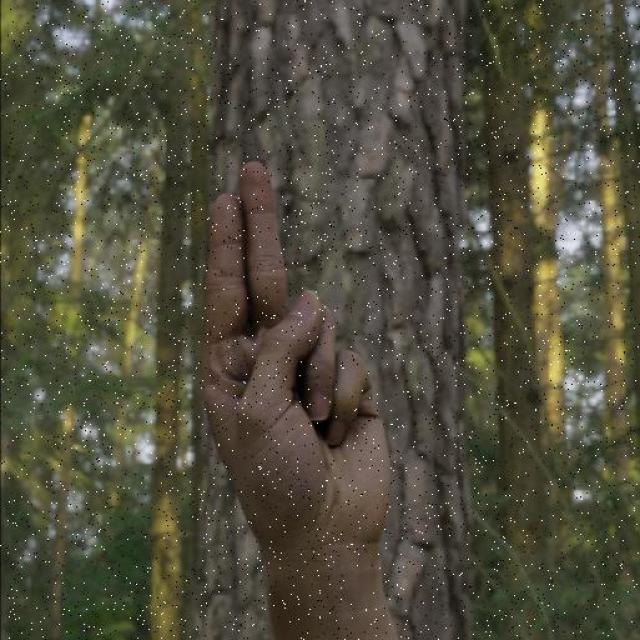U: (198, 147, 398, 582)
